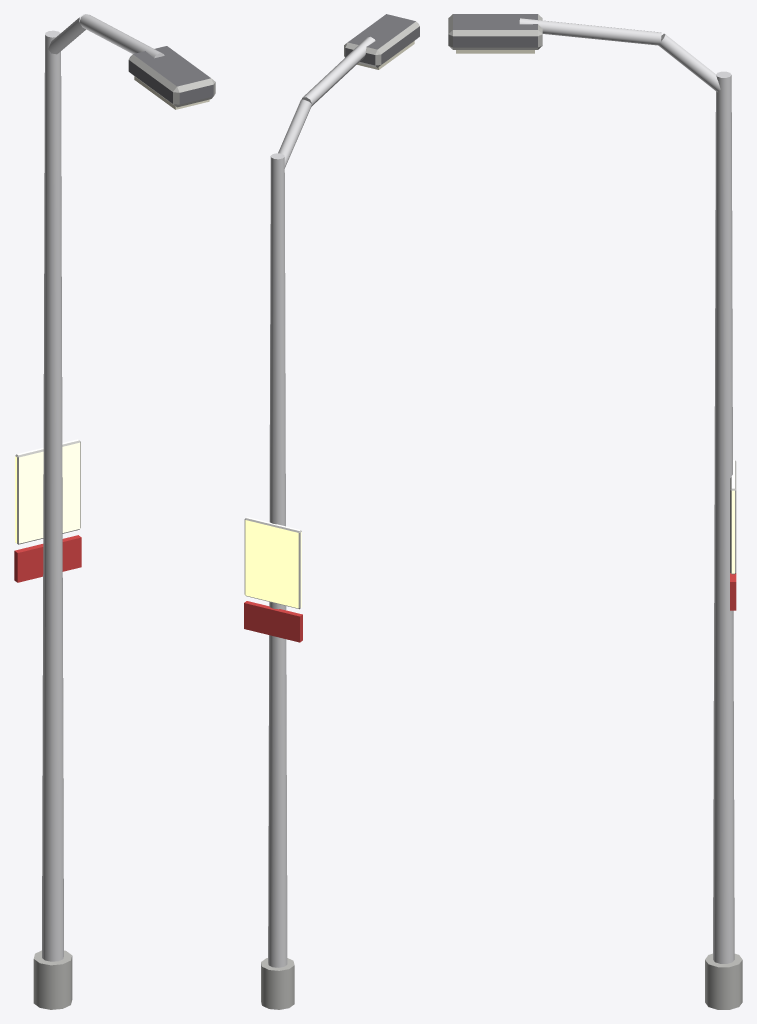
Rendered from SM_StreetLamp.fbx.
3 renders of one model, left to right at view 1: azimuth 30°, elevation 25°; view 2: azimuth 150°, elevation 25°; view 3: azimuth 270°, elevation 25°, orthographic. The views are drawn at different scales.
Parts seen in each view (by area): view 1: SM_StreetLamp; view 2: SM_StreetLamp; view 3: SM_StreetLamp.
Part boxes in pixels (x1,y1,x2,y2): SM_StreetLamp: (14,14,215,1009); SM_StreetLamp: (244,14,419,1009); SM_StreetLamp: (448,14,742,1009).
Size of the model in its own units: 0.45 by 6.89 by 1.87.
